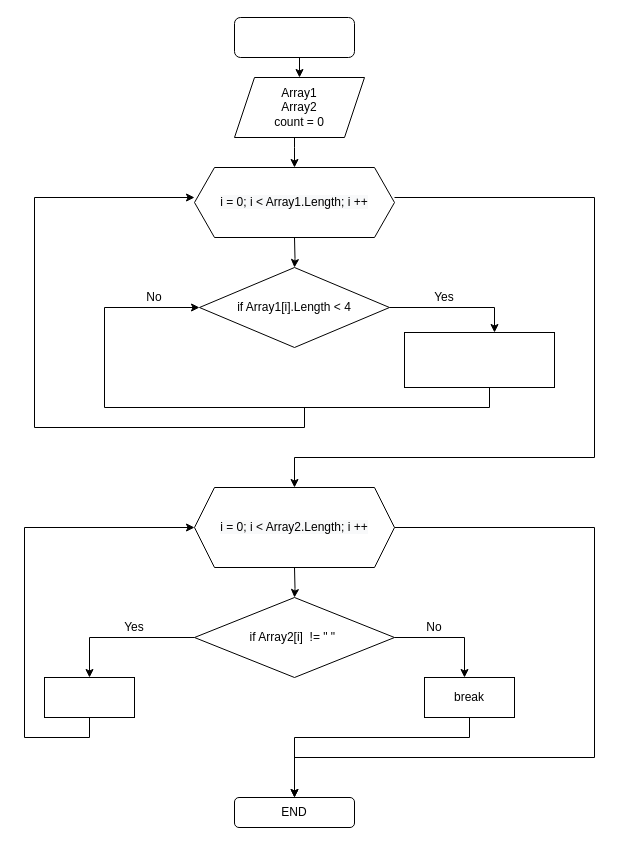
This 620x845 diagram has some shape labels left out. Here are the shapes that lost their labels. From the top down, the box of each, then its label:
(234, 16, 354, 58): START
(404, 332, 554, 388): add element in Array2 count += 1
(44, 676, 134, 718): print element
